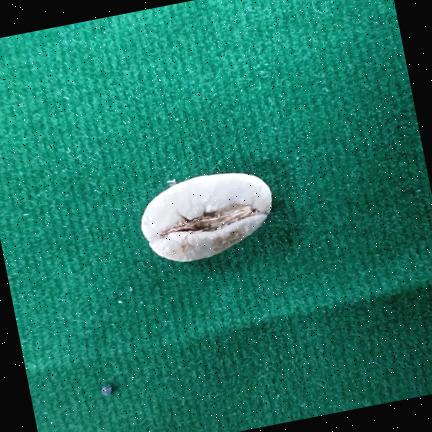immature: (142, 173, 272, 262)
